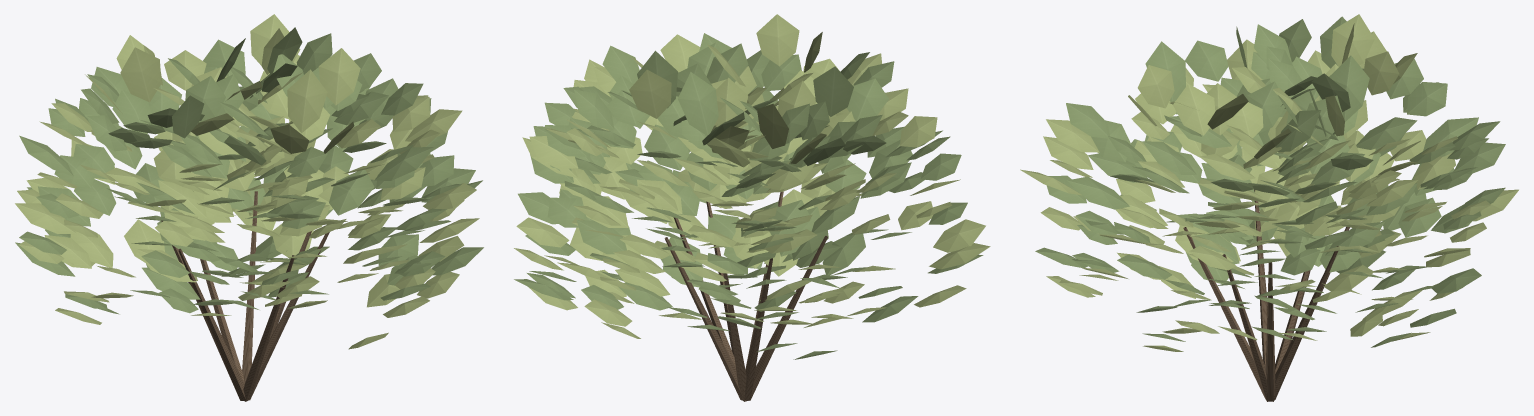
File: Shrub2.fbx
3 renders of one model, left to right at view 1: azimuth 30°, elevation 25°; view 2: azimuth 150°, elevation 25°; view 3: azimuth 270°, elevation 25°, orthographic.
Visible parts, largest first — view 1: Shrub2_LOD0; view 2: Shrub2_LOD0; view 3: Shrub2_LOD0.
Boxes of the visible parts, x1,y1,x2,y2 form: Shrub2_LOD0: (15, 14, 483, 401); Shrub2_LOD0: (514, 14, 990, 401); Shrub2_LOD0: (1020, 14, 1518, 401).
Size of what is drawn, in the model's own units: 143 by 111 by 145.
Materials: 1 (1 with a texture image).
